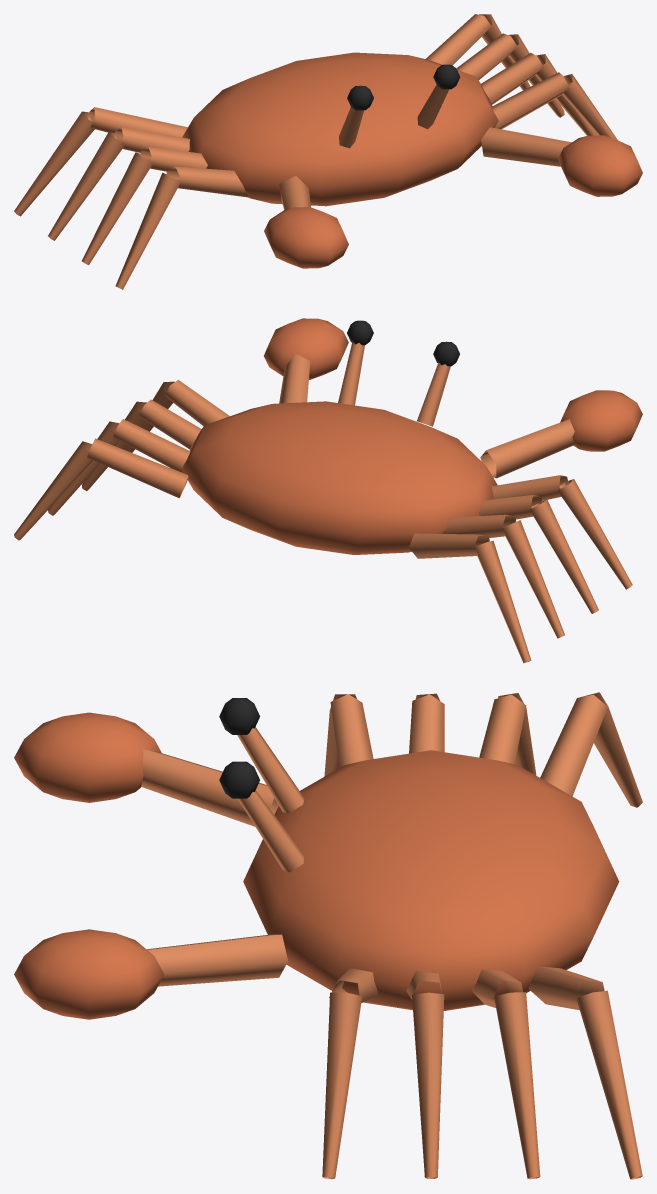
The model's file is Crab.glb.
3 renders of one model, top to bottom at view 1: azimuth 30°, elevation 25°; view 2: azimuth 150°, elevation 25°; view 3: azimuth 270°, elevation 25°, orthographic. The views are drawn at different scales.
Parts seen in each view (by area): view 1: Crab, Claw_R, Claw_L, Leg_L0, Leg_L3, Leg_L2, Leg_R0, Leg_L1, Leg_R1, Leg_R3, Leg_R2; view 2: Crab, Claw_L, Claw_R, Leg_R3, Leg_L3, Leg_L2, Leg_L0, Leg_L1, Leg_R2, Leg_R1, Leg_R0; view 3: Crab, Claw_R, Claw_L, Leg_R3, Leg_R2, Leg_L3, Leg_R0, Leg_R1, Leg_L2, Leg_L0, Leg_L1.
Boxes of the visible parts, left/top/right/bottom form: Crab: left=182, top=52, right=498, bottom=206; Claw_R: left=481, top=127, right=642, bottom=196; Claw_L: left=264, top=176, right=348, bottom=268; Leg_L0: left=115, top=166, right=248, bottom=289; Leg_L3: left=14, top=107, right=187, bottom=216; Leg_L2: left=48, top=127, right=189, bottom=240; Leg_R0: left=492, top=72, right=617, bottom=140; Leg_L1: left=82, top=146, right=207, bottom=265; Leg_R1: left=481, top=53, right=597, bottom=135; Leg_R3: left=426, top=14, right=530, bottom=90; Leg_R2: left=456, top=33, right=564, bottom=117; Crab: left=182, top=320, right=497, bottom=554; Claw_L: left=480, top=390, right=642, bottom=478; Claw_R: left=264, top=318, right=348, bottom=403; Leg_R3: left=14, top=438, right=188, bottom=540; Leg_L3: left=409, top=533, right=531, bottom=663; Leg_L2: left=442, top=514, right=564, bottom=638; Leg_L0: left=491, top=475, right=632, bottom=589; Leg_L1: left=479, top=495, right=598, bottom=613; Leg_R2: left=48, top=419, right=190, bottom=515; Leg_R1: left=82, top=399, right=201, bottom=491; Leg_R0: left=123, top=380, right=229, bottom=452; Crab: left=219, top=698, right=619, bottom=1010; Claw_R: left=14, top=929, right=287, bottom=1019; Claw_L: left=14, top=712, right=278, bottom=826; Leg_R3: left=528, top=966, right=642, bottom=1179; Leg_R2: left=471, top=969, right=540, bottom=1179; Leg_L3: left=540, top=692, right=642, bottom=807; Leg_R0: left=322, top=968, right=378, bottom=1179; Leg_R1: left=406, top=970, right=444, bottom=1178; Leg_L2: left=479, top=693, right=536, bottom=775; Leg_L0: left=324, top=694, right=373, bottom=776; Leg_L1: left=409, top=693, right=444, bottom=753.
Bounding box in the file's own units: 0.2631 × 0.0851 × 0.1839.
